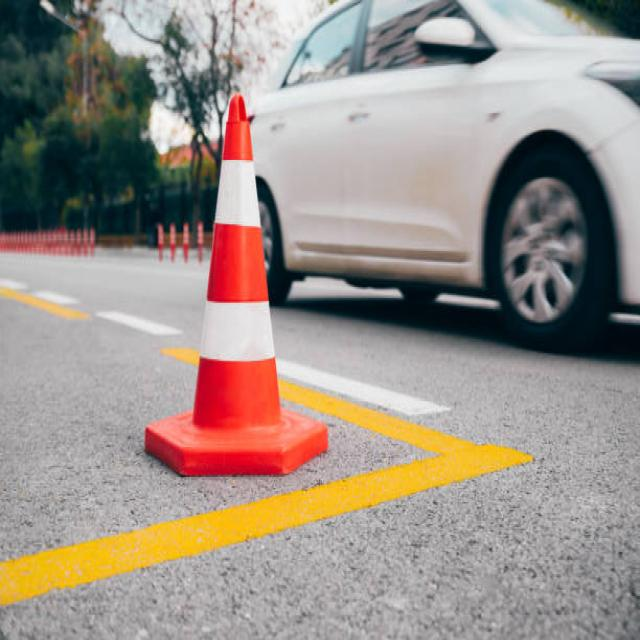Traffic Cone: (117, 51, 359, 507)
